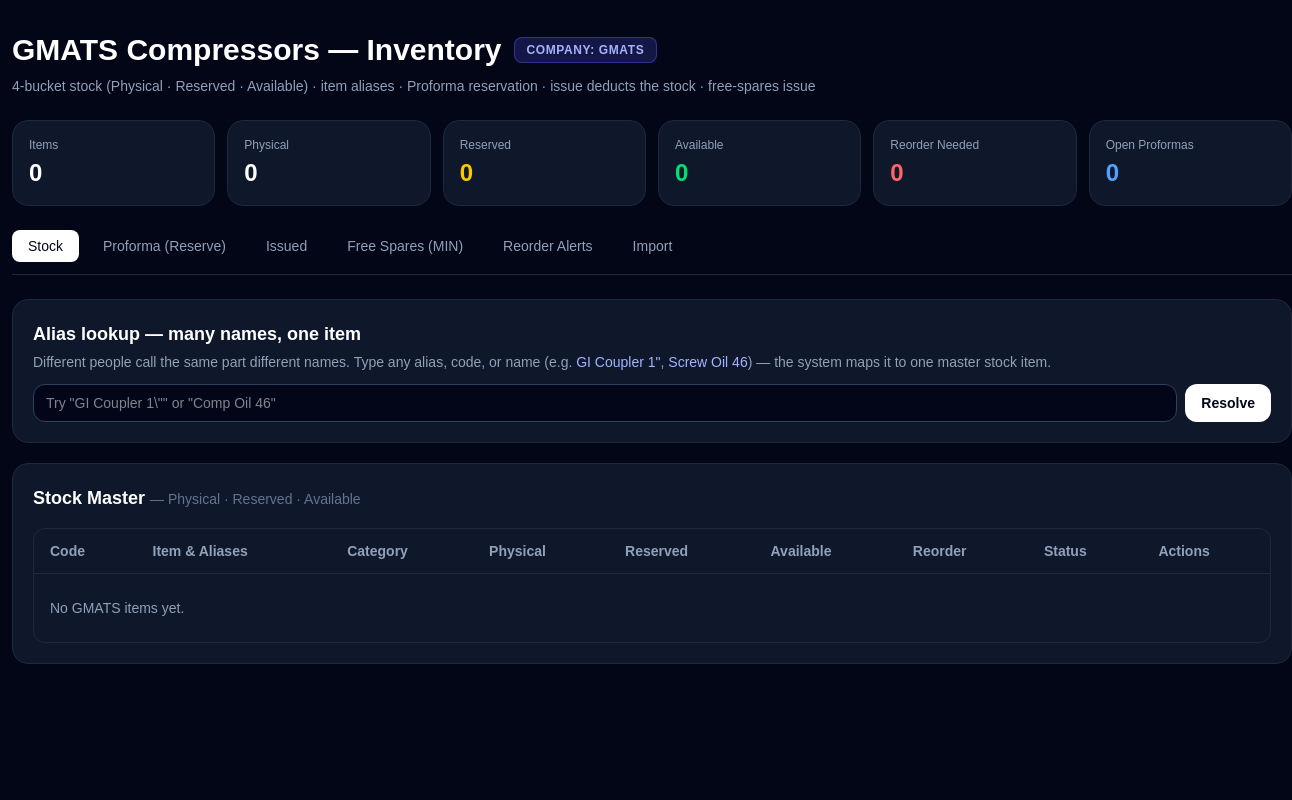
Scenario: the button that deducts the stock › is not offered for a proforma that is already issued
Click the button "Proforma (Reserve)" at (164, 246), box [87, 230, 242, 262]
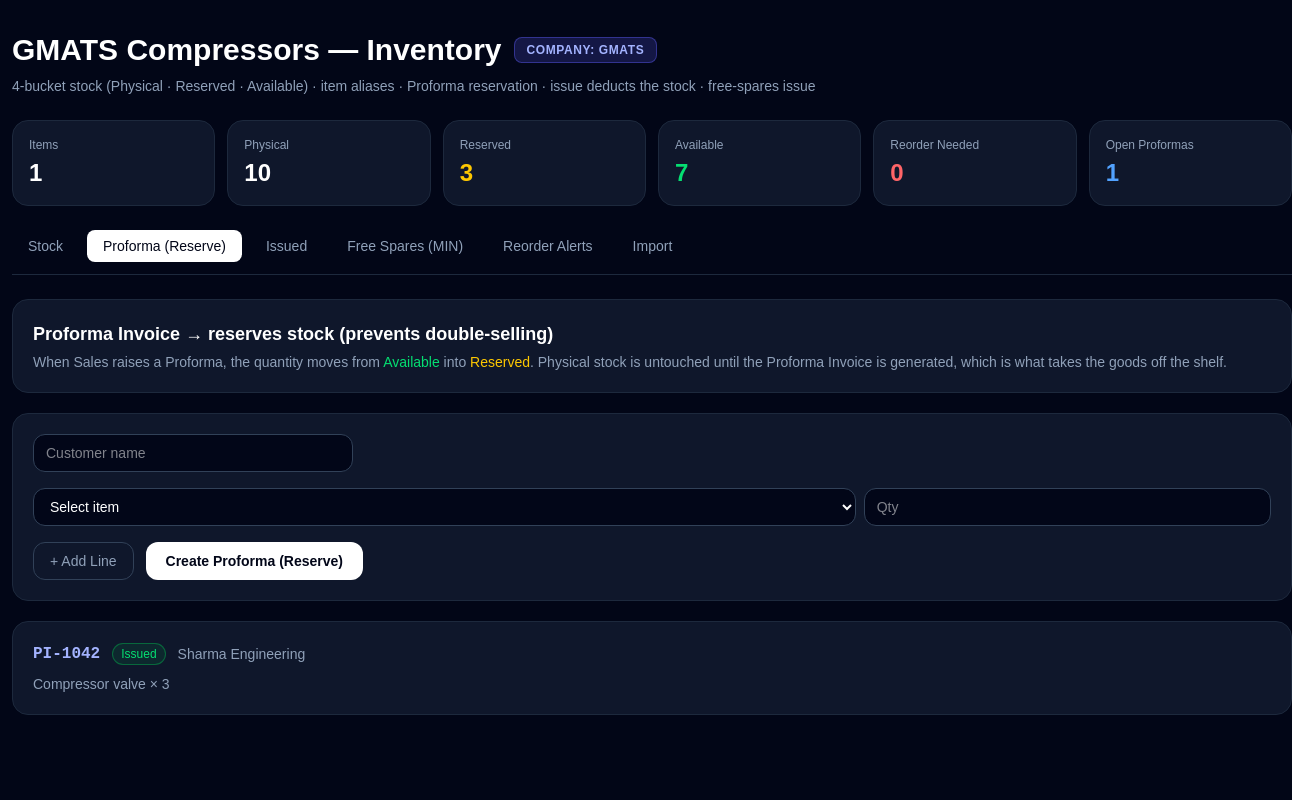
Check: the text "PI-1042" is shown, box [33, 642, 100, 666]
